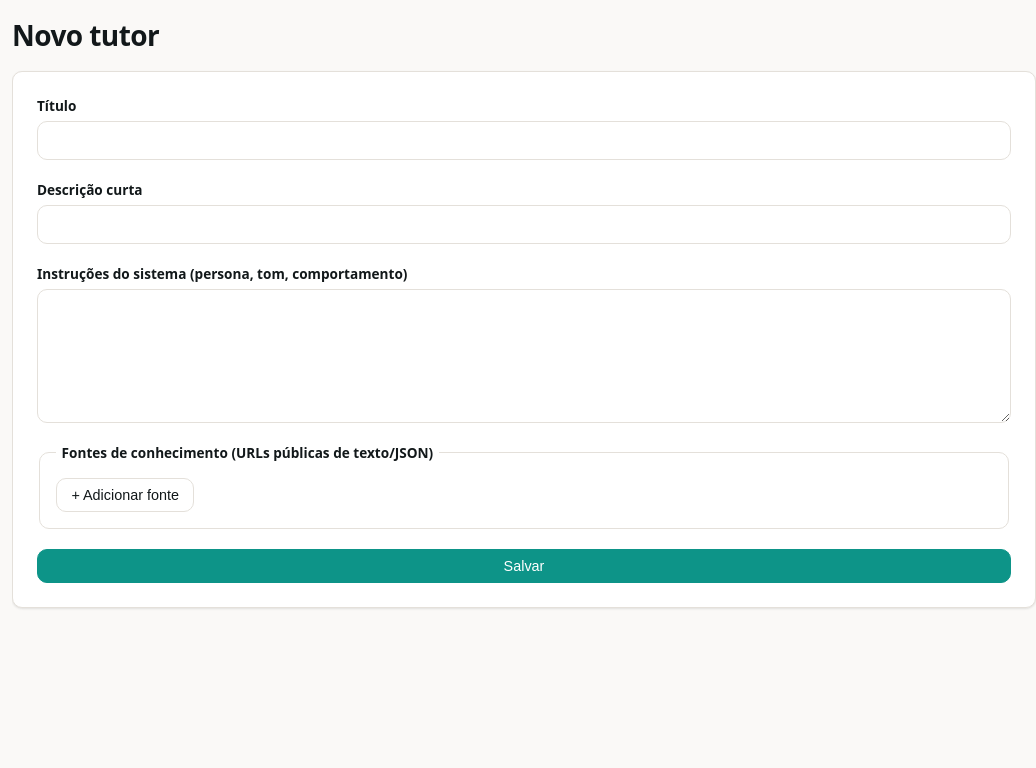
Scenario: TutorFormPage › adds and removes a knowledge source row
This screenshot has width=1036, height=768.
Step 1. Click the button "+ Adicionar fonte" → (125, 495), box [56,478,194,512]
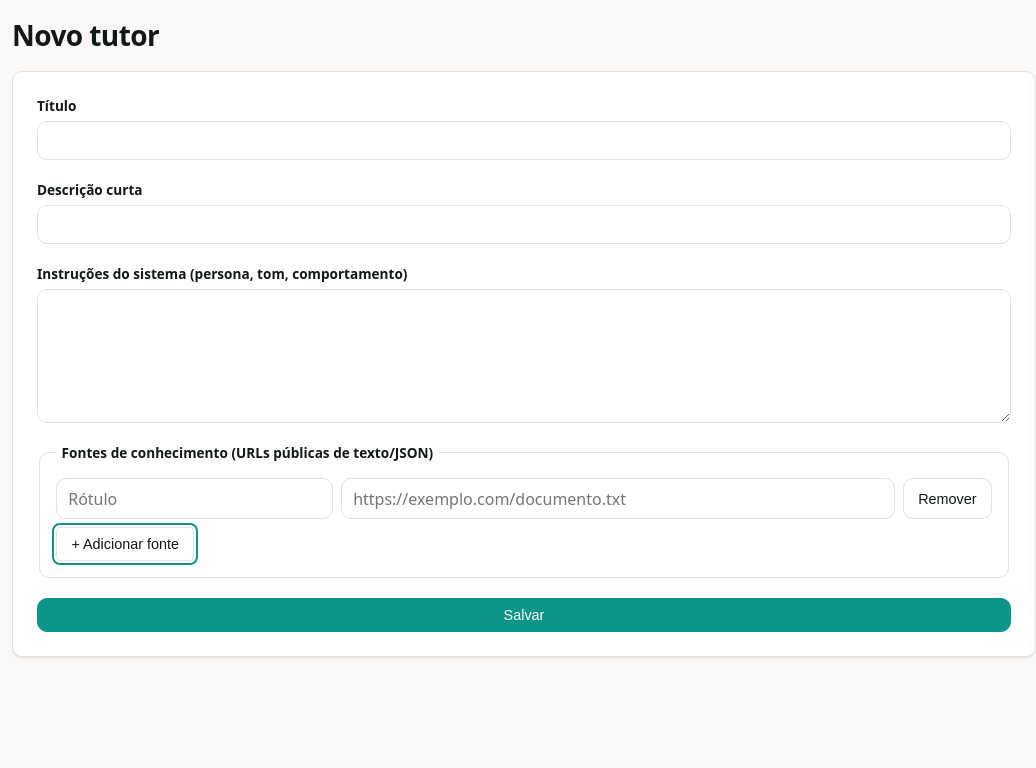
Now the field with placeholder "Rótulo" is shown, box [56,478,333,520]
Step 2. Click the button with aria-label "remover fonte" → (947, 499), box [903,478,992,520]
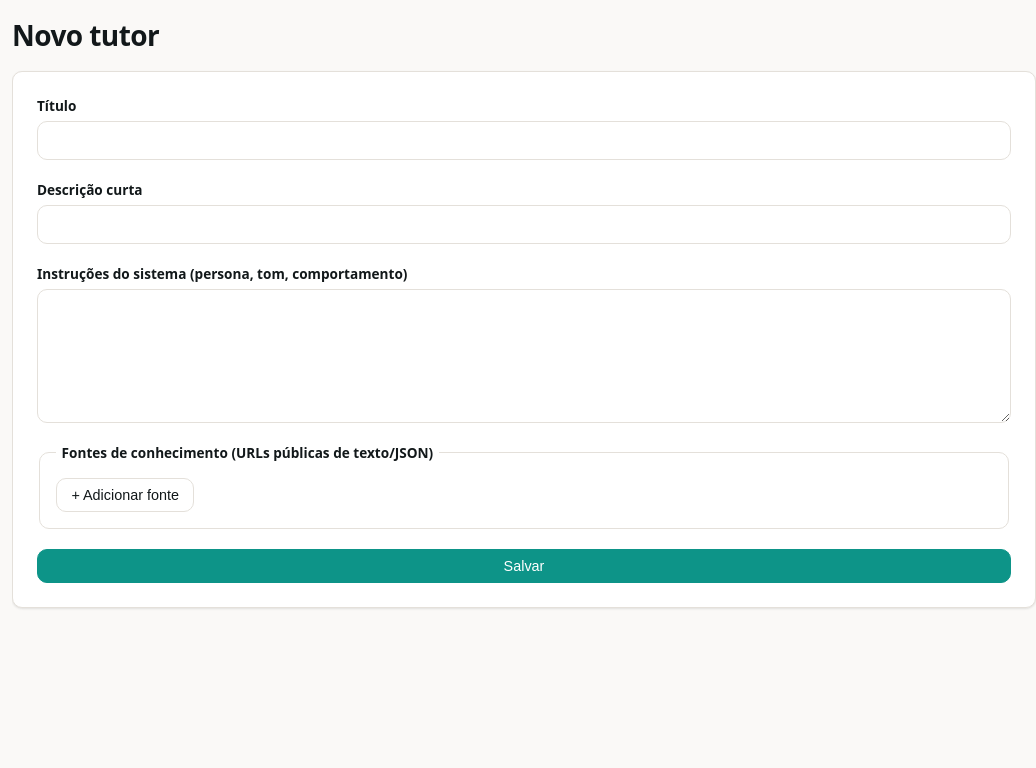
Now the field with placeholder "rótulo" is gone
